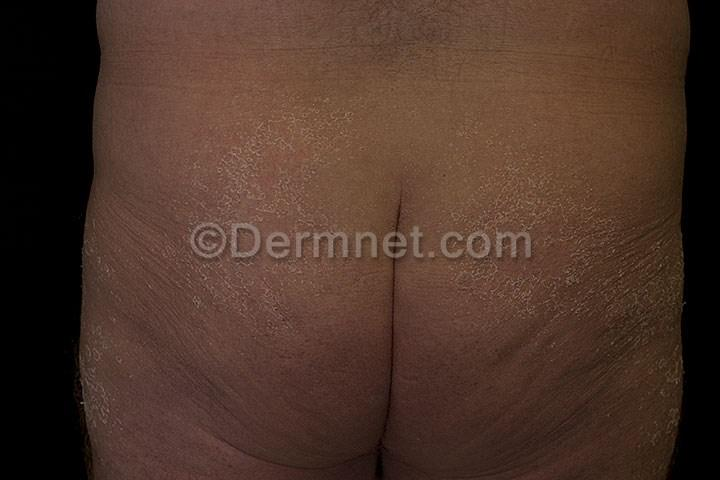Eczema: (539, 192, 681, 394), (197, 79, 335, 213), (75, 308, 125, 423), (201, 275, 293, 327), (477, 267, 525, 315)
